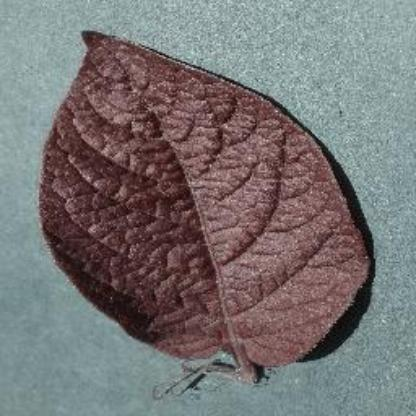Healthy-plant: (36, 26, 378, 382)
